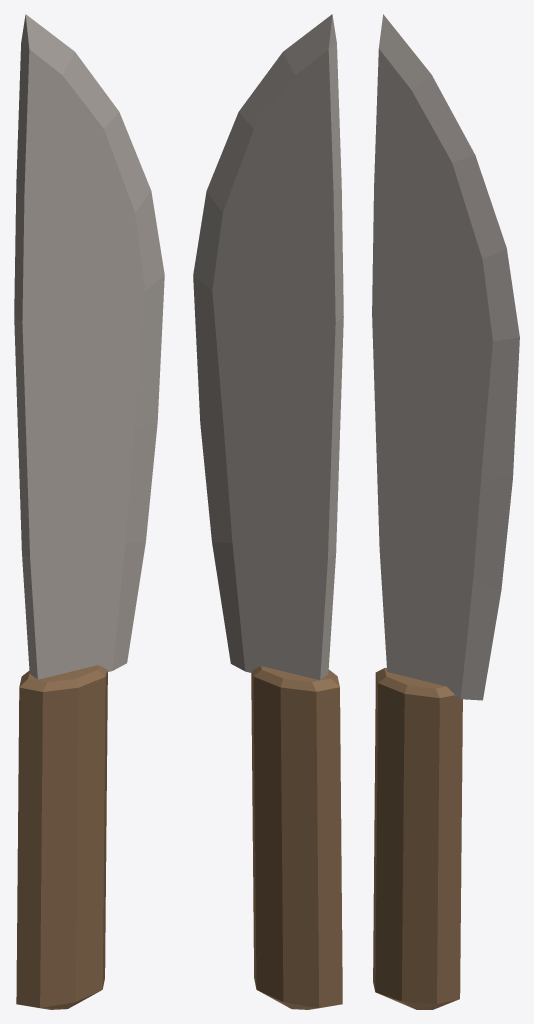
File: SM_pwe_medieval_knife_02.fbx
3 renders of one model, left to right at view 1: azimuth 30°, elevation 25°; view 2: azimuth 150°, elevation 25°; view 3: azimuth 330°, elevation 25°, orthographic.
Visible parts, largest first — view 1: SM_pwe_medieval_knife_02; view 2: SM_pwe_medieval_knife_02; view 3: SM_pwe_medieval_knife_02.
Part boxes in pixels (left/top/right/bottom): SM_pwe_medieval_knife_02: left=14, top=14, right=164, bottom=1009; SM_pwe_medieval_knife_02: left=193, top=14, right=343, bottom=1009; SM_pwe_medieval_knife_02: left=372, top=14, right=519, bottom=1009.
Size of the model in its own units: 7.25 by 46.61 by 2.54.
